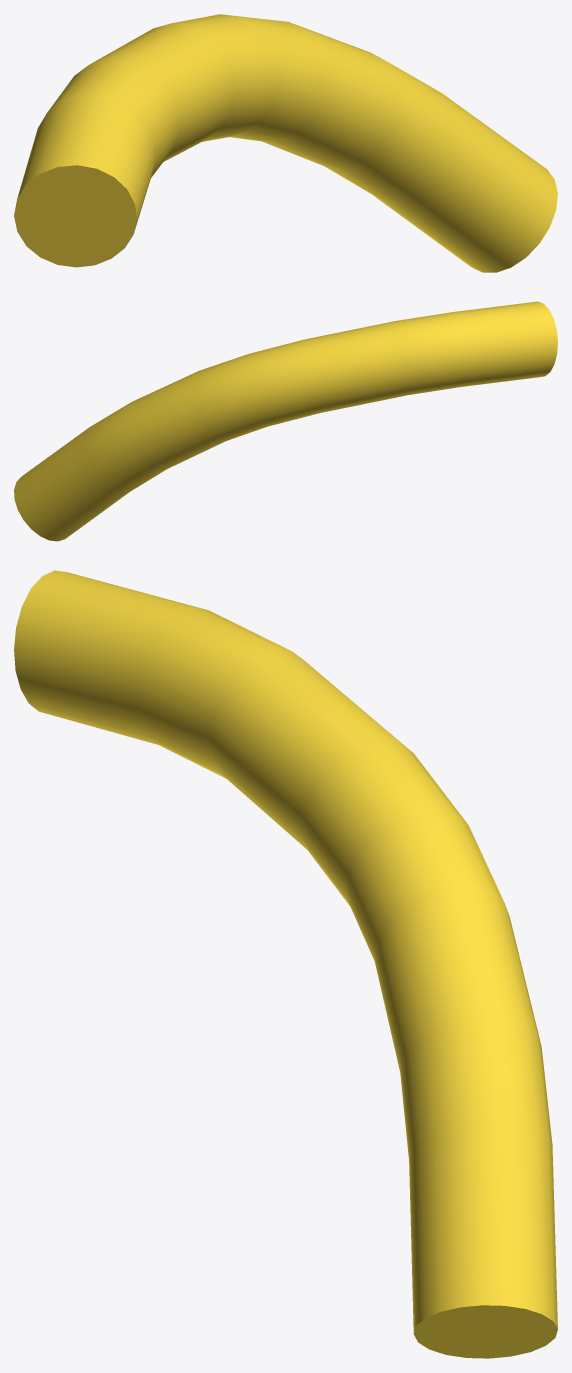
The model's file is lacPromoter.glb.
3 views of the same model, one above another, from view 1: azimuth 30°, elevation 25°; view 2: azimuth 150°, elevation 25°; view 3: azimuth 270°, elevation 25° (orthographic). The views are drawn at different scales.
Visible parts, largest first — view 1: lacPromoter; view 2: lacPromoter; view 3: lacPromoter.
Boxes of the visible parts, left/top/right/bottom form: lacPromoter: left=14, top=14, right=557, bottom=272; lacPromoter: left=14, top=301, right=557, bottom=541; lacPromoter: left=14, top=570, right=557, bottom=1358.
Bounding box in the file's own units: 0.6223 × 0.3318 × 0.358.
